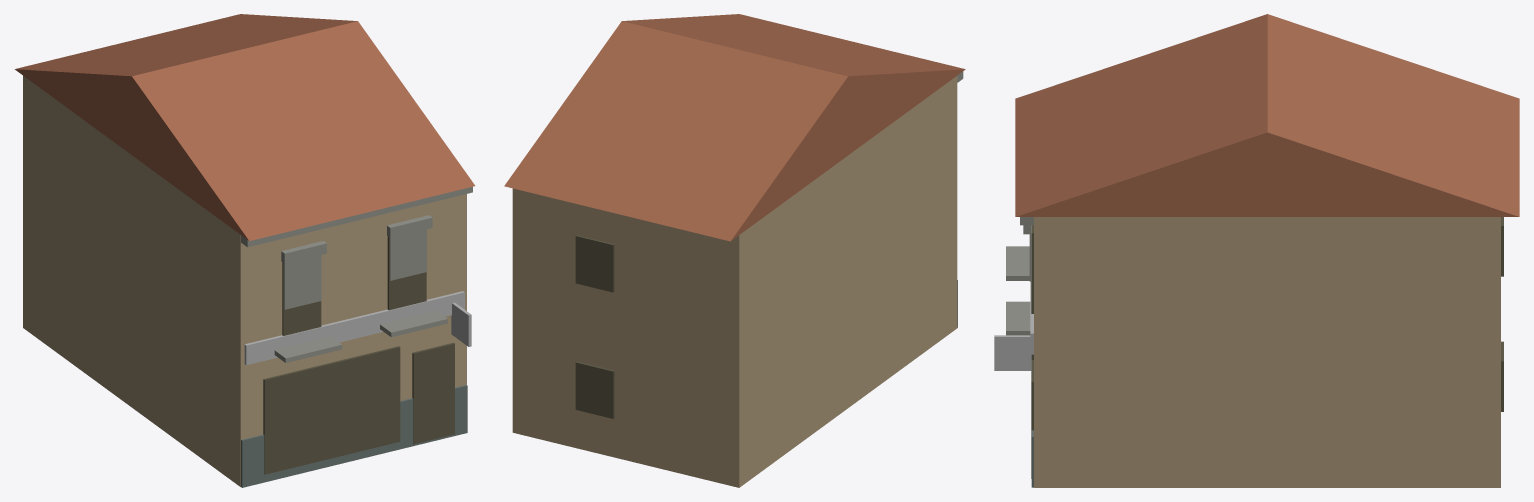
Rendered from SM_BajoComercial_v2_Farmacia_LOD1.fbx.
The picture shows the model from 3 angles, left to right: view 1: azimuth 30°, elevation 25°; view 2: azimuth 150°, elevation 25°; view 3: azimuth 270°, elevation 25°; orthographic projection. The views are drawn at different scales.
Parts seen in each view (by area): view 1: SM_pueblo_valenciano_v7_LOD1; view 2: SM_pueblo_valenciano_v7_LOD1; view 3: SM_pueblo_valenciano_v7_LOD1.
Part boxes in pixels (x1,y1,x2,y2): SM_pueblo_valenciano_v7_LOD1: [14, 14, 475, 487]; SM_pueblo_valenciano_v7_LOD1: [504, 14, 965, 487]; SM_pueblo_valenciano_v7_LOD1: [994, 14, 1519, 487].
Bounding box in the file's own units: 6 × 8.4 × 11.25.
